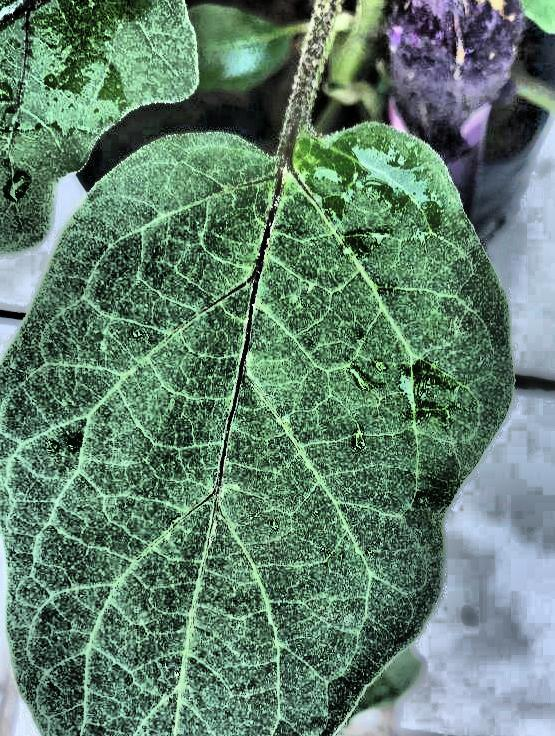HEALTHY: (27, 0, 555, 536)
